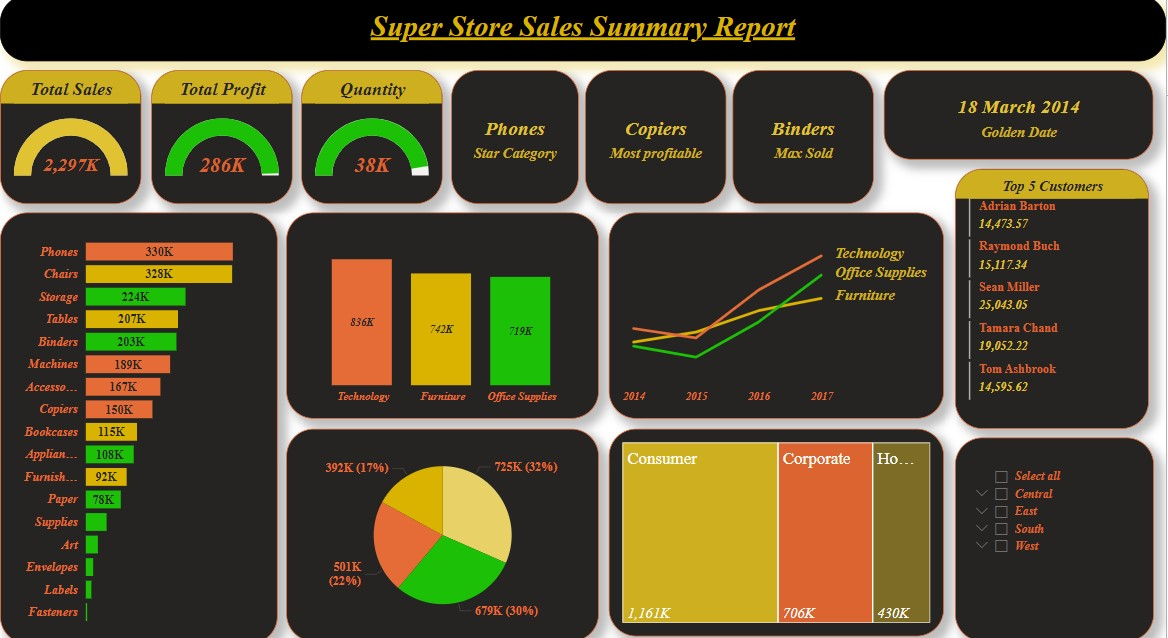

The dashboard page shown, as its layout file describes it:
{"tool":"powerbi","page":{"name":"Page 1","canvas":[1280,720],"ordinal":0},"visuals":[{"type":"textbox","box":[0,0,1280.3,72.7],"z":0},{"type":"barChart","fields":{"Y":["Orders.Sales"],"Category":["Orders.Sub-Category"],"Series":["Orders.Category"]},"box":[0,238.8,304.6,473.4],"z":1},{"type":"columnChart","fields":{"Y":["Orders.Sales"],"Category":["Orders.Category"],"Series":["Orders.Category"]},"box":[314.2,238.8,343.1,226.4],"z":2},{"type":"pieChart","fields":{"Category":["Orders.Region"],"Y":["Orders.Sales"]},"box":[314.2,476.2,343.1,233.3],"z":3},{"type":"treemap","fields":{"Values":["Orders.Sales"],"Group":["Orders.Segment"]},"box":[668.3,476.2,367.8,227.8],"z":4},{"type":"lineChart","fields":{"Y":["Orders.Sales"],"Series":["Orders.Category"],"Category":["Orders.Order Date.Variation.Date Hierarchy.Year","Orders.Order Date.Variation.Date Hierarchy.Quarter","Orders.Order Date.Variation.Date Hierarchy.Month","Orders.Order Date.Variation.Date Hierarchy.Day"]},"box":[668.3,238.8,367.8,226.4],"z":5},{"type":"gauge","title":"Total Sales","fields":{"Y":["Orders.Sales"]},"box":[0,82.3,155.1,146.8],"z":6},{"type":"gauge","title":"Total Profit","fields":{"Y":["Orders.Profit"]},"box":[166,82.3,155.1,146.8],"z":7},{"type":"gauge","title":"Quantity","fields":{"Y":["Orders.Quantity"]},"box":[330.7,82.3,155.1,146.8],"z":8},{"type":"card","fields":{"Values":["Orders.Sub-Category"]},"box":[495.4,82.3,140,146.8],"z":9},{"type":"card","fields":{"Values":["Orders.Sub-Category"]},"box":[642.2,82.3,155.1,146.8],"z":10},{"type":"card","fields":{"Values":["Orders.Sub-Category"]},"box":[804.1,82.3,155.1,146.8],"z":11},{"type":"card","fields":{"Values":["Orders.Order Date"]},"box":[970.2,82.3,296.4,98.8],"z":12},{"type":"multiRowCard","title":"Top 5 Customers","fields":{"Values":["Orders.Customer Name","Orders.Sales"]},"box":[1048.4,190.7,212.7,285.4],"z":13},{"type":"slicer","fields":{"Values":["Orders.Region","Orders.State"]},"box":[1048.4,485.8,218.2,223.7],"z":14}]}

Visuals, with their boxes in screenshot pixels (x1, y1, x2, y2), scaled from the page's 1280x720 canvas onto the 1168x638 screenshot:
textbox: [x1=0, y1=0, x2=1167, y2=64]
barChart - Orders.Sales x Orders.Sub-Category: [x1=0, y1=212, x2=278, y2=631]
columnChart - Orders.Sales x Orders.Category: [x1=287, y1=212, x2=600, y2=412]
pieChart - Orders.Region x Orders.Sales: [x1=287, y1=422, x2=600, y2=629]
treemap - Orders.Sales x Orders.Segment: [x1=610, y1=422, x2=945, y2=624]
lineChart - Orders.Sales x Orders.Category: [x1=610, y1=212, x2=945, y2=412]
"Total Sales" gauge: [x1=0, y1=73, x2=142, y2=203]
"Total Profit" gauge: [x1=151, y1=73, x2=293, y2=203]
"Quantity" gauge: [x1=302, y1=73, x2=443, y2=203]
card - Orders.Sub-Category: [x1=452, y1=73, x2=580, y2=203]
card - Orders.Sub-Category: [x1=586, y1=73, x2=728, y2=203]
card - Orders.Sub-Category: [x1=734, y1=73, x2=875, y2=203]
card - Orders.Order Date: [x1=885, y1=73, x2=1156, y2=160]
"Top 5 Customers" multiRowCard: [x1=957, y1=169, x2=1151, y2=422]
slicer - Orders.Region x Orders.State: [x1=957, y1=430, x2=1156, y2=629]
